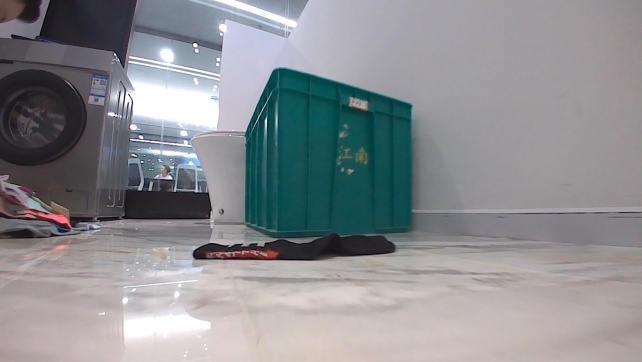socks: (187, 230, 398, 263)
toilet: (188, 127, 250, 225)
washing_machine: (0, 33, 144, 223)
